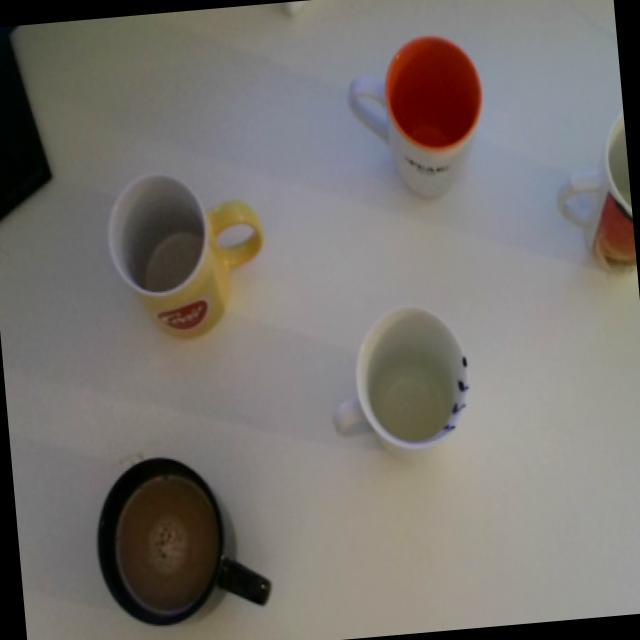Cocio Cup: (100, 162, 274, 348)
Cup: (87, 444, 278, 639)
Halloween cup: (569, 98, 637, 273)
Hand painted cup: (333, 300, 477, 460)
White Cup: (342, 29, 495, 210)
